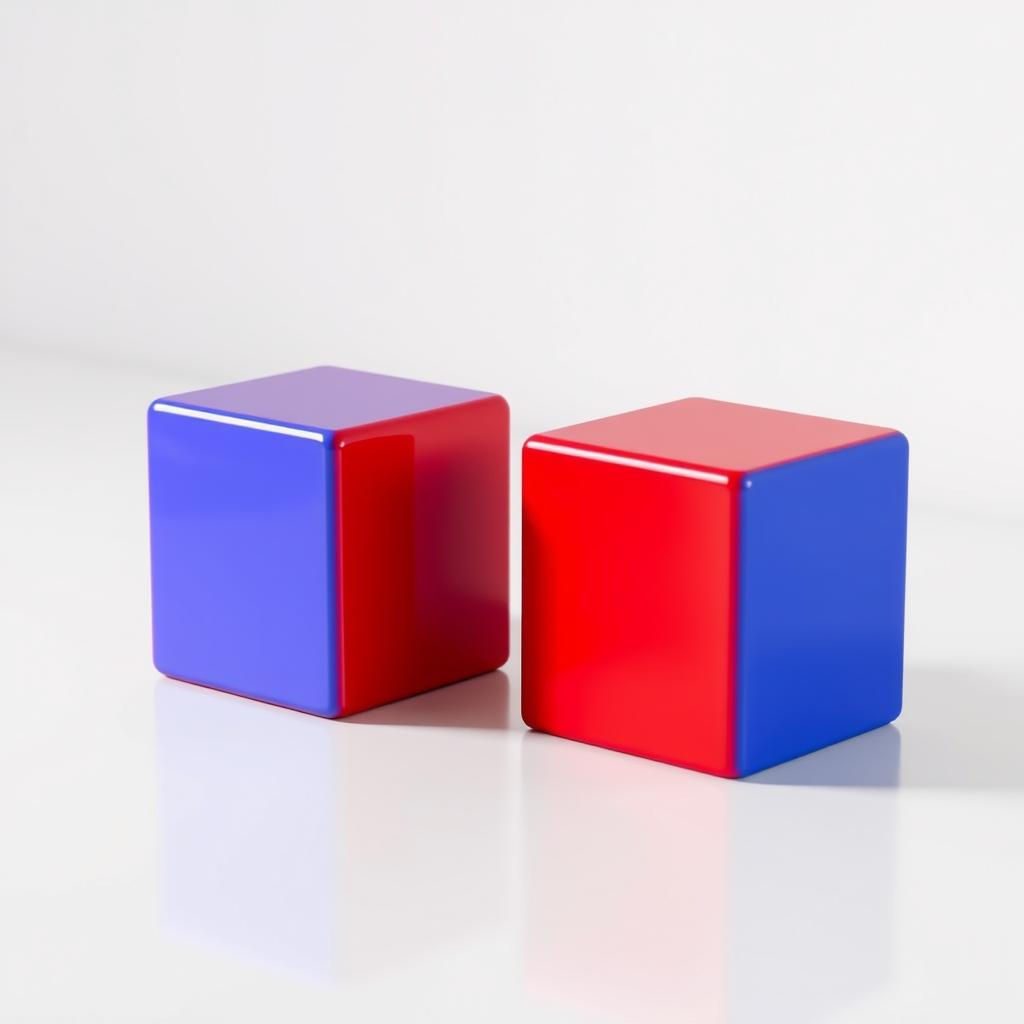cube: (519, 394, 909, 779), (146, 363, 510, 720)
